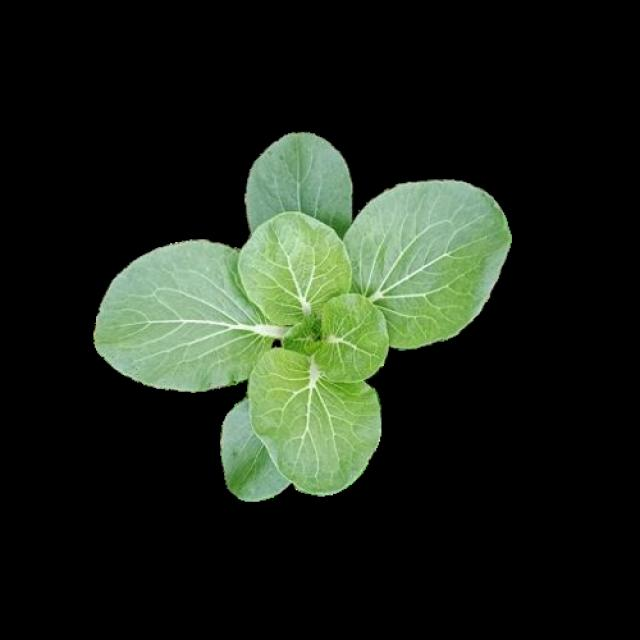healthy: (92, 130, 503, 496)
not-mature: (94, 133, 506, 498)
